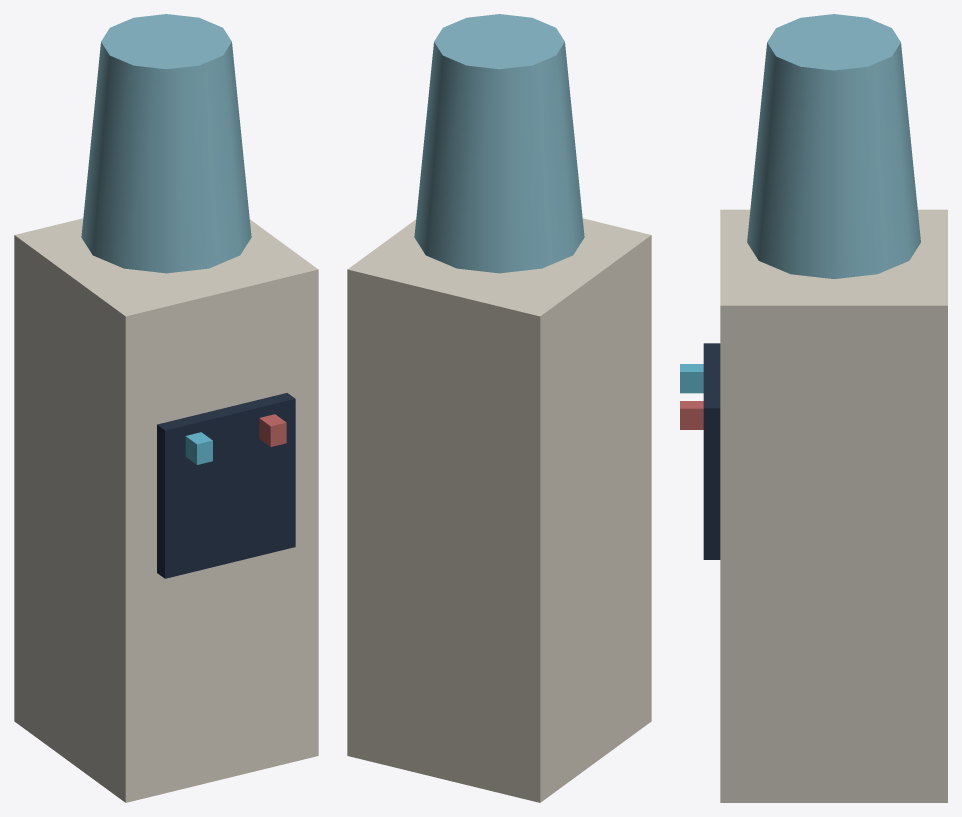
The model's file is officeWaterCooler.glb.
3 renders of one model, left to right at view 1: azimuth 30°, elevation 25°; view 2: azimuth 150°, elevation 25°; view 3: azimuth 270°, elevation 25°, orthographic. The views are drawn at different scales.
Bounding box in the file's own units: 0.34 × 1.18 × 0.4.
